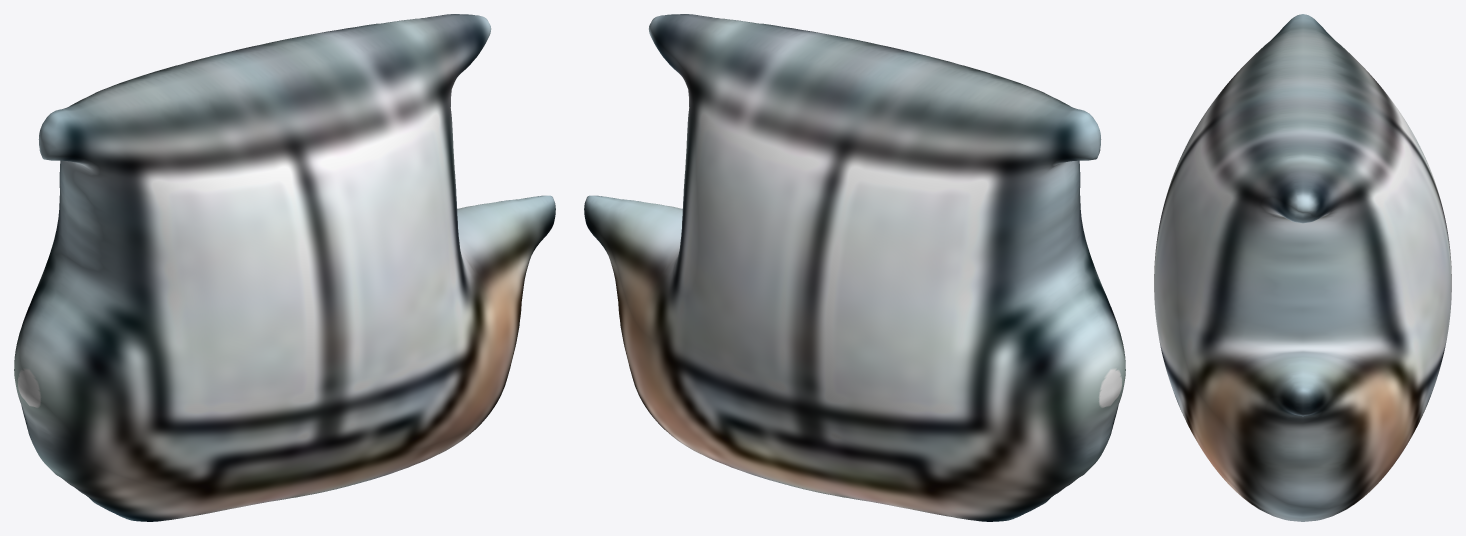
The model's file is OrangeBoat.fbx.
3 views of the same model, side by side, from view 1: azimuth 30°, elevation 25°; view 2: azimuth 150°, elevation 25°; view 3: azimuth 270°, elevation 25° (orthographic). The views are drawn at different scales.
Parts seen in each view (by area): view 1: OrangeBoat; view 2: OrangeBoat; view 3: OrangeBoat.
Boxes of the visible parts, left/top/right/bottom form: OrangeBoat: left=14, top=14, right=555, bottom=521; OrangeBoat: left=584, top=14, right=1125, bottom=521; OrangeBoat: left=1154, top=14, right=1451, bottom=521.
Bounding box in the file's own units: 23.69 × 18.31 × 13.69.
Materials: 1 (1 with a texture image).
